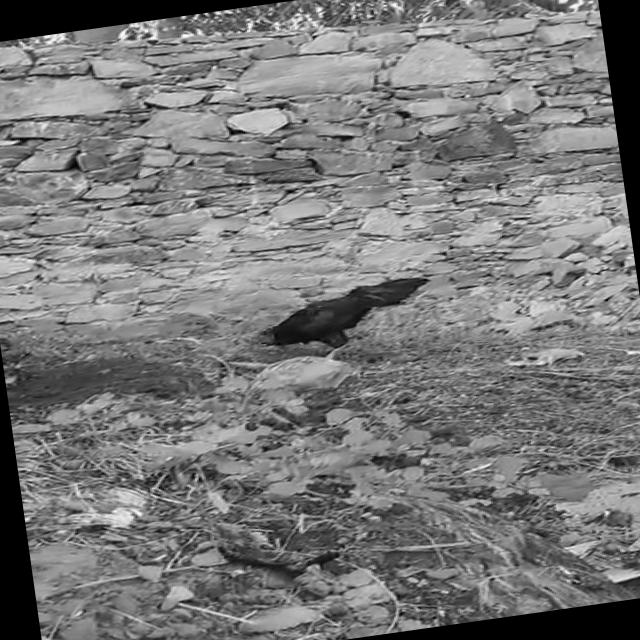stand bath: (209, 242, 456, 380)
